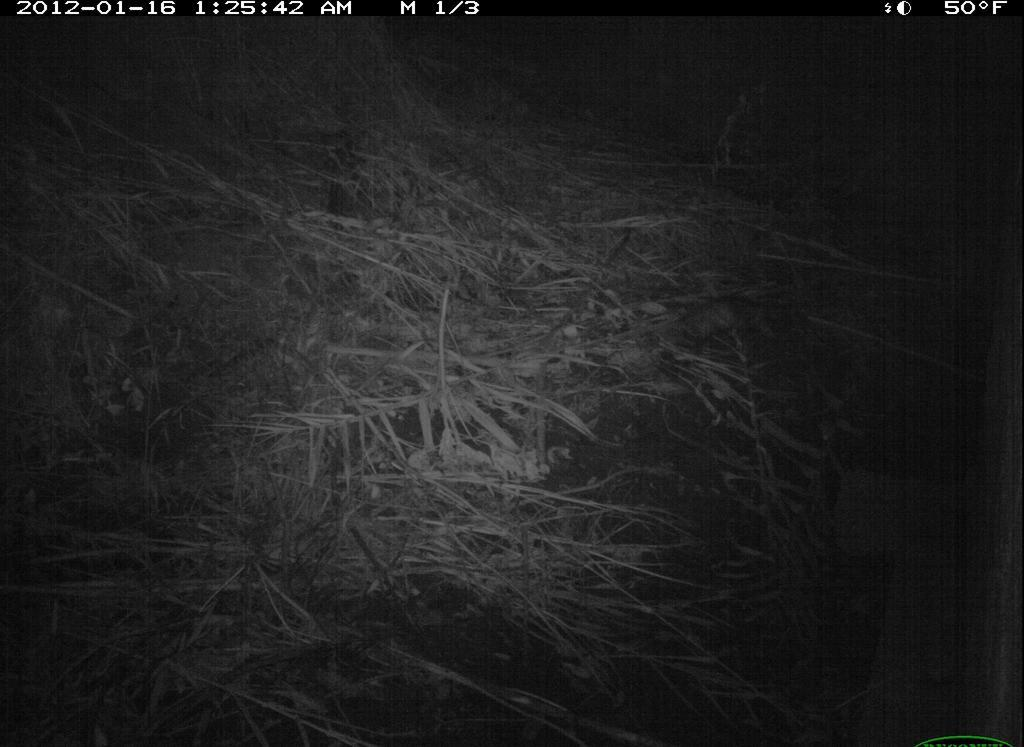opossum: (627, 286, 786, 361)
